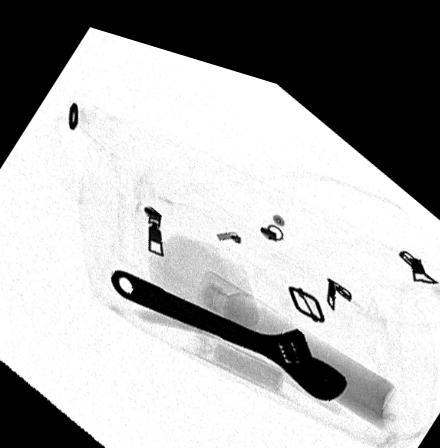Wrench: (108, 260, 349, 381)
